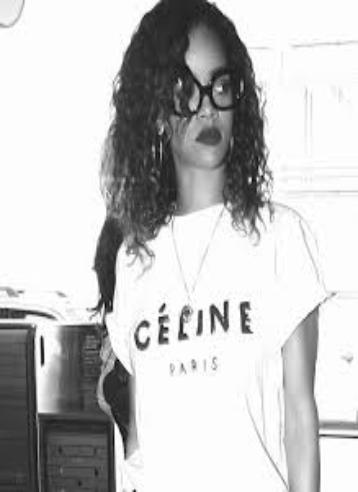CELINE: (122, 301, 259, 352)
